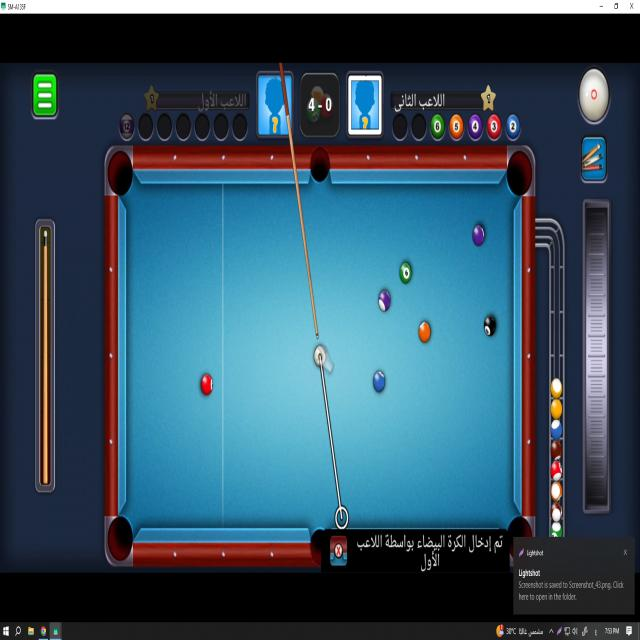object_ball: (400, 262, 412, 284), (373, 371, 385, 392), (473, 225, 484, 246), (201, 374, 212, 395), (419, 322, 430, 343), (379, 291, 390, 311), (484, 316, 495, 335)
white_cue_ball: (313, 344, 327, 368)
